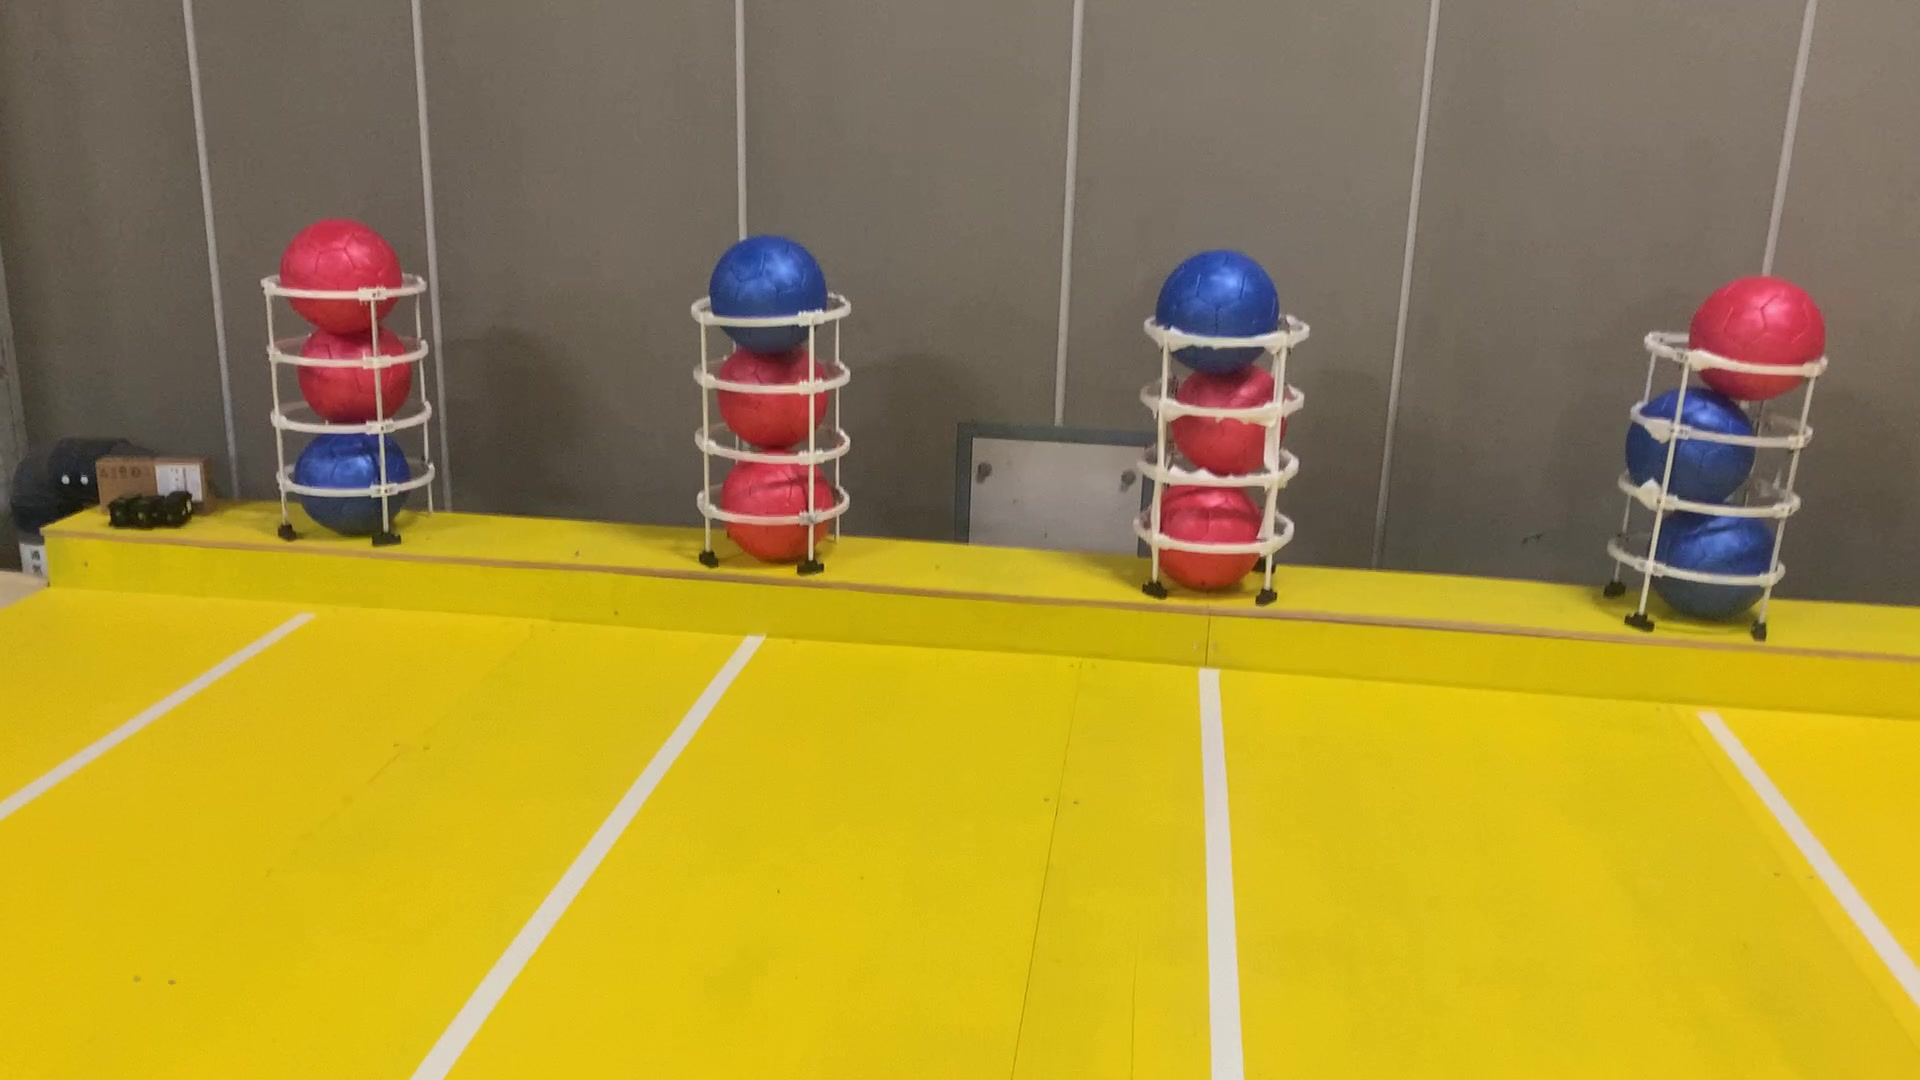blue: (1154, 245, 1287, 376), (1651, 489, 1782, 617), (1626, 380, 1756, 508), (700, 229, 835, 345), (295, 417, 418, 543)
red: (1685, 266, 1832, 401), (716, 446, 841, 571), (280, 214, 410, 332), (1170, 360, 1292, 480), (289, 314, 417, 427), (1146, 476, 1267, 589), (715, 343, 835, 452)
